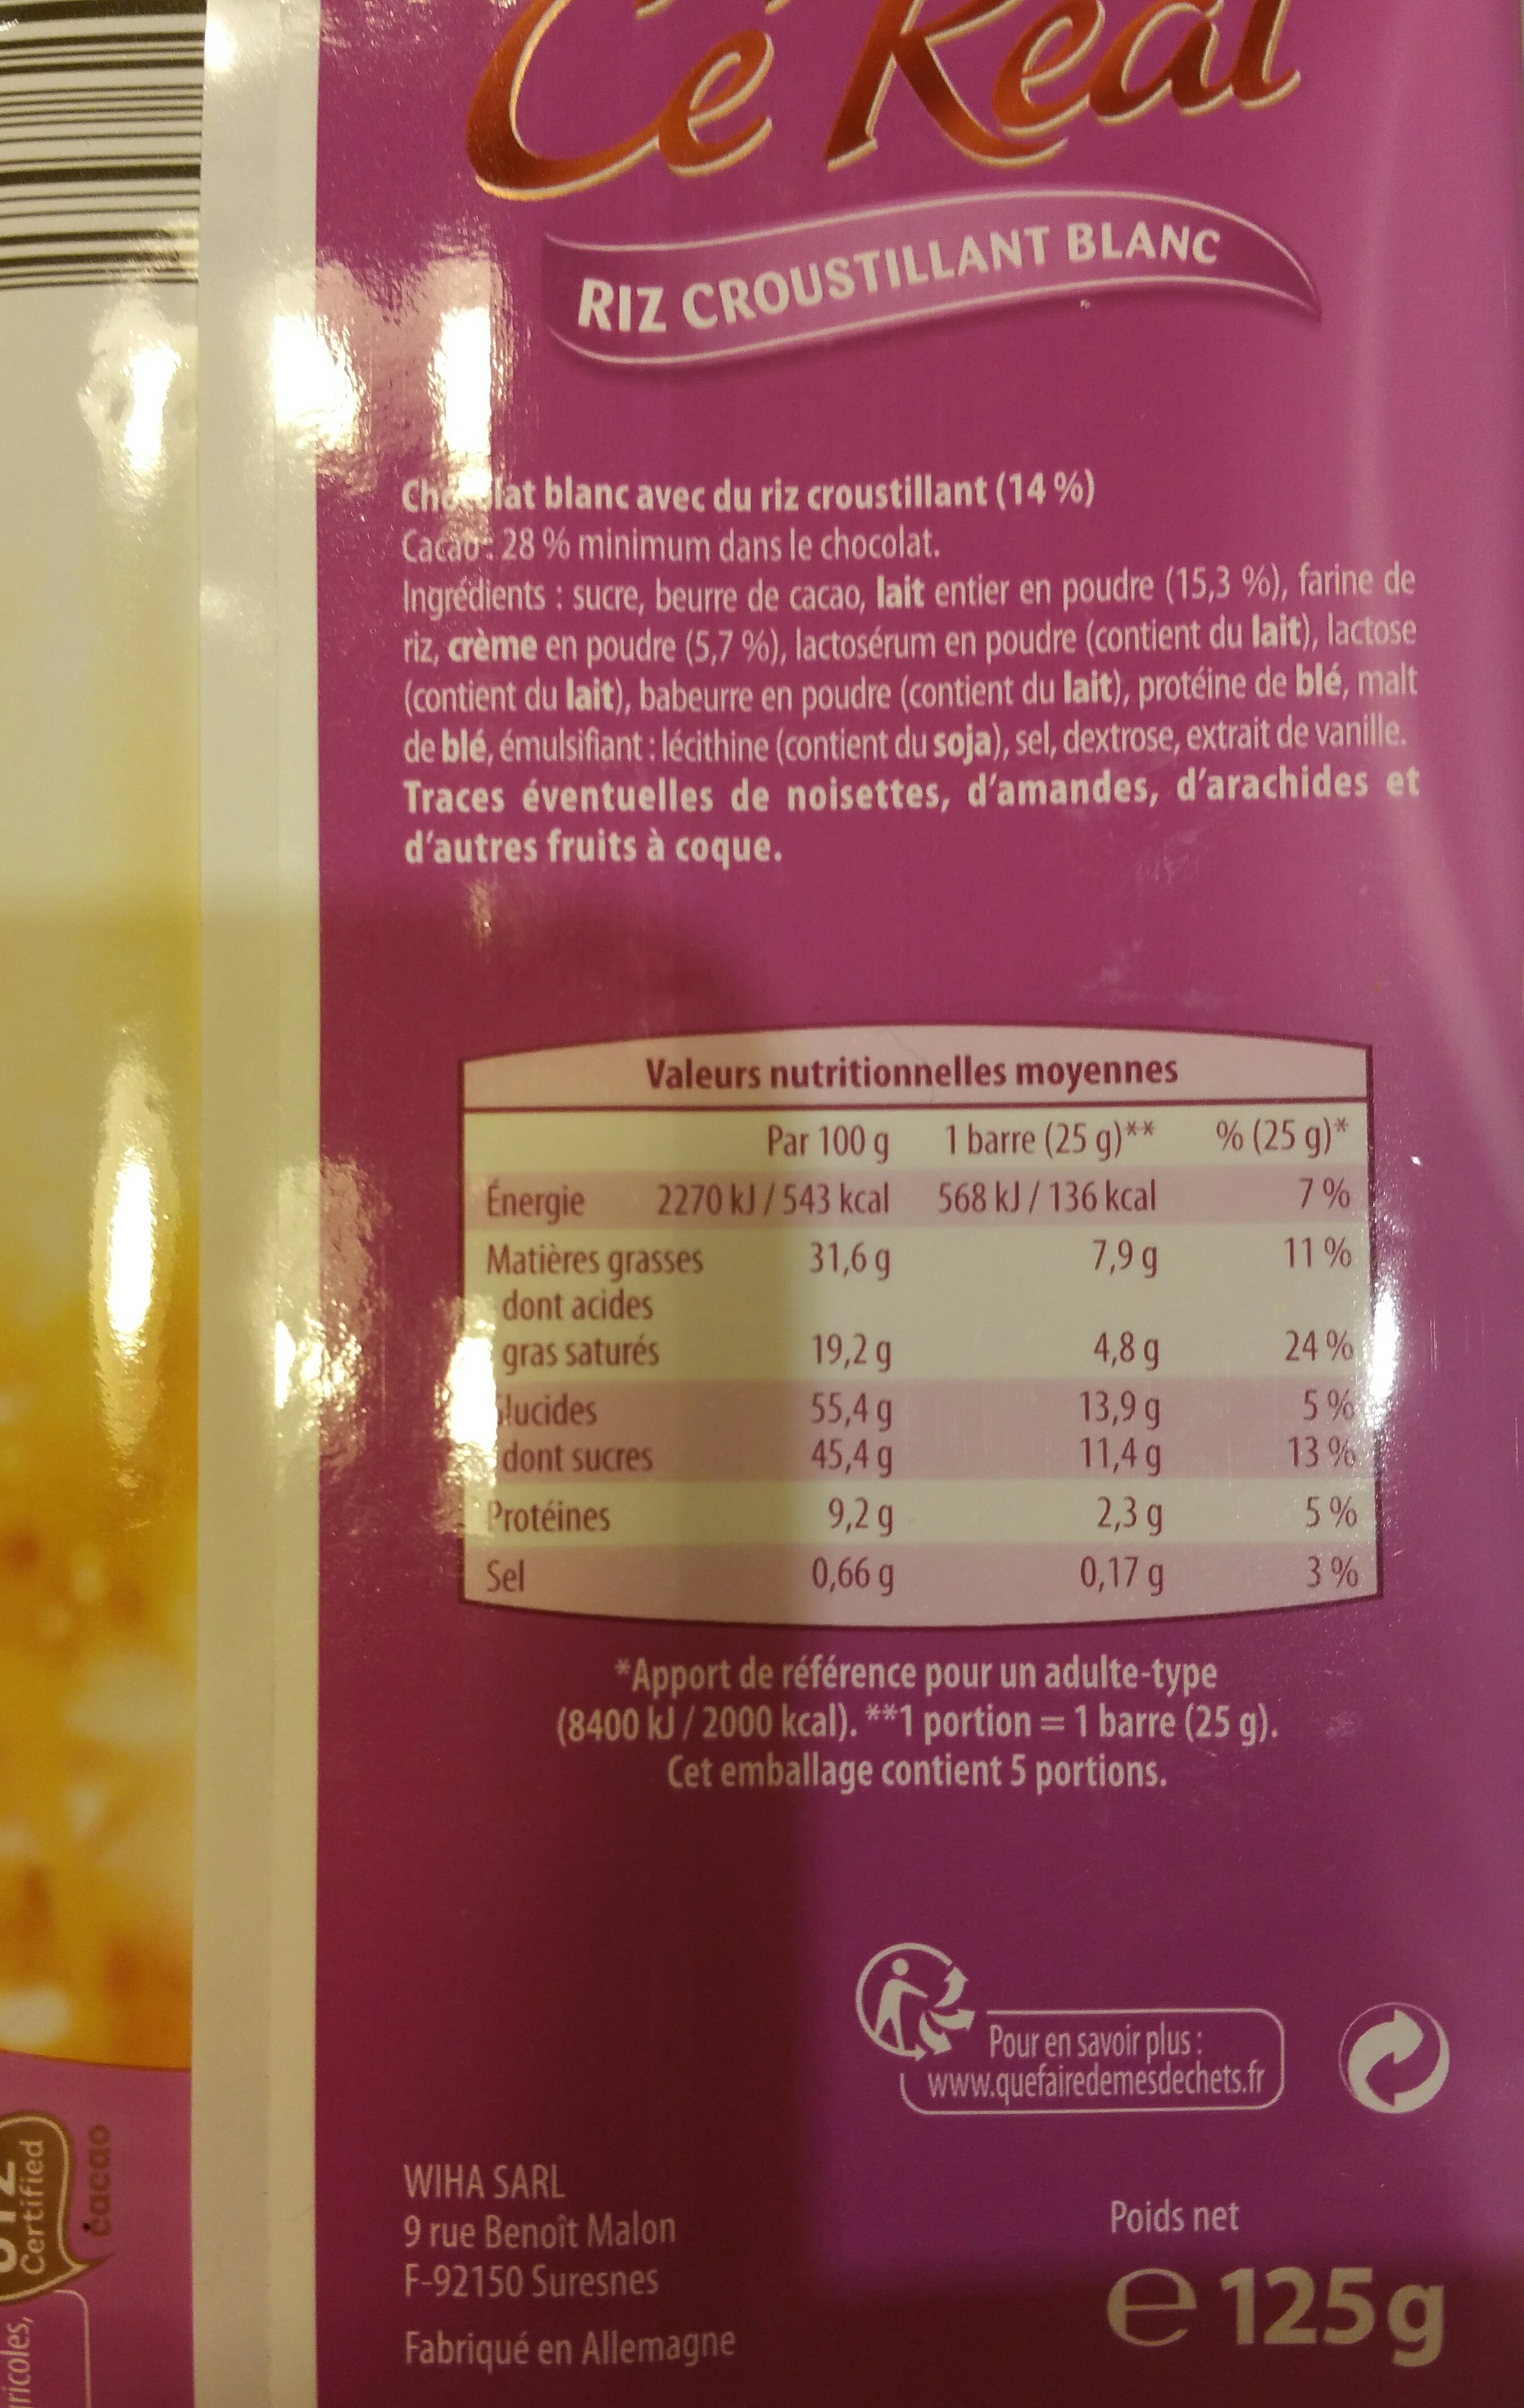column: (481, 1118, 899, 1613), (932, 1118, 1166, 1613), (1211, 1111, 1361, 1613)
table: (462, 1028, 1384, 1648)
